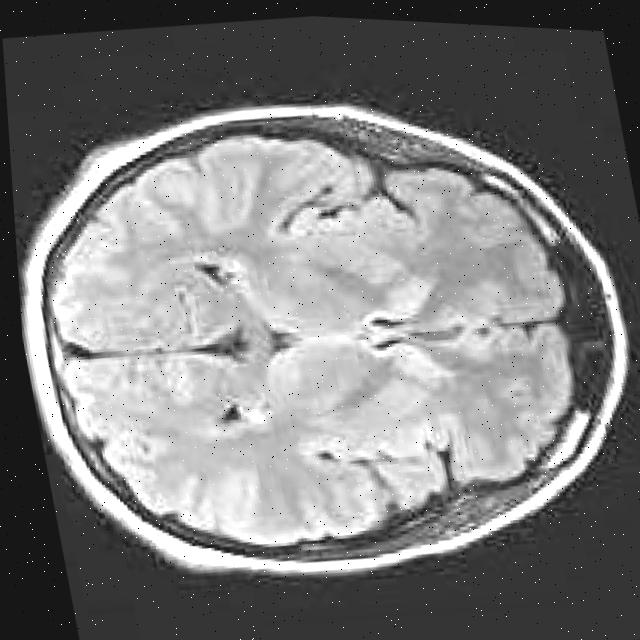NoTumor: (5, 79, 619, 595)
